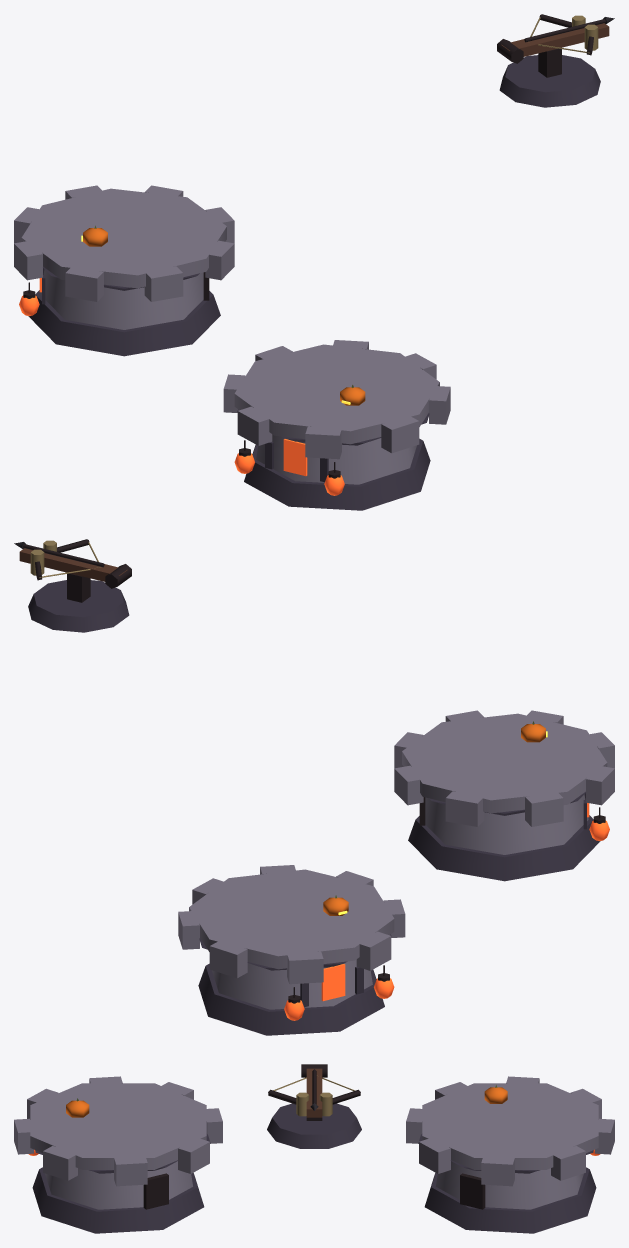
Rendered from base_standard_weapon_2.glb.
The picture shows the model from 3 angles, top to bottom: view 1: azimuth 30°, elevation 25°; view 2: azimuth 150°, elevation 25°; view 3: azimuth 270°, elevation 25°; orthographic projection. The views are drawn at different scales.
Visible parts, largest first — view 1: tower_slot_2_plate, tower_slot_1_plate, tower_slot_1_footing, tower_slot_2_footing, tower_slot_1_tower, weapon_mount, tower_slot_2_tower, tower_slot_1_merlon_5, ballista_stock, tower_slot_2_merlon_6, tower_slot_1_merlon_6, tower_slot_2_merlon_7 (+5 smaller); view 2: tower_slot_1_plate, tower_slot_2_plate, tower_slot_2_footing, tower_slot_1_footing, tower_slot_2_tower, weapon_mount, tower_slot_1_tower, tower_slot_2_merlon_2, tower_slot_1_merlon_1, ballista_stock, tower_slot_2_merlon_1, tower_slot_1_merlon_0 (+5 smaller); view 3: tower_slot_1_plate, tower_slot_2_plate, tower_slot_1_footing, tower_slot_2_footing, tower_slot_1_tower, tower_slot_2_tower, weapon_mount, tower_slot_1_merlon_3, tower_slot_2_merlon_4, tower_slot_2_merlon_5, tower_slot_1_merlon_2, tower_slot_1_merlon_4 (+16 smaller).
Boxes of the visible parts, x1,y1,x2,y2 form: tower_slot_2_plate: [234, 344, 439, 444]; tower_slot_1_plate: [21, 188, 226, 288]; tower_slot_1_footing: [28, 290, 220, 356]; tower_slot_2_footing: [244, 438, 430, 510]; tower_slot_1_tower: [40, 269, 203, 329]; weapon_mount: [499, 55, 600, 107]; tower_slot_2_tower: [256, 434, 416, 484]; tower_slot_1_merlon_5: [144, 266, 183, 301]; ballista_stock: [501, 23, 609, 56]; tower_slot_2_merlon_6: [381, 416, 419, 453]; tower_slot_1_merlon_6: [65, 268, 103, 301]; tower_slot_2_merlon_7: [305, 426, 341, 459]; tower_slot_1_plate: [189, 869, 394, 969]; tower_slot_2_plate: [402, 713, 607, 813]; tower_slot_2_footing: [408, 815, 600, 881]; tower_slot_1_footing: [198, 963, 384, 1035]; tower_slot_2_tower: [425, 794, 588, 854]; weapon_mount: [28, 580, 129, 632]; tower_slot_1_tower: [212, 959, 372, 1009]; tower_slot_2_merlon_2: [445, 791, 484, 826]; tower_slot_1_merlon_1: [209, 941, 247, 978]; ballista_stock: [19, 548, 127, 581]; tower_slot_2_merlon_1: [525, 793, 563, 826]; tower_slot_1_merlon_0: [287, 951, 323, 984]; tower_slot_1_plate: [422, 1083, 598, 1169]; tower_slot_2_plate: [30, 1083, 206, 1169]; tower_slot_1_footing: [424, 1167, 596, 1233]; tower_slot_2_footing: [32, 1167, 204, 1233]; tower_slot_1_tower: [436, 1161, 583, 1209]; tower_slot_2_tower: [45, 1161, 192, 1209]; weapon_mount: [267, 1103, 361, 1148]; tower_slot_1_merlon_3: [481, 1156, 514, 1186]; tower_slot_2_merlon_4: [114, 1156, 147, 1186]; tower_slot_2_merlon_5: [43, 1146, 77, 1180]; tower_slot_1_merlon_2: [551, 1146, 585, 1180]; tower_slot_1_merlon_4: [419, 1138, 450, 1173].
Size of the model in its own units: 0.9745 by 0.547 by 1.13.
